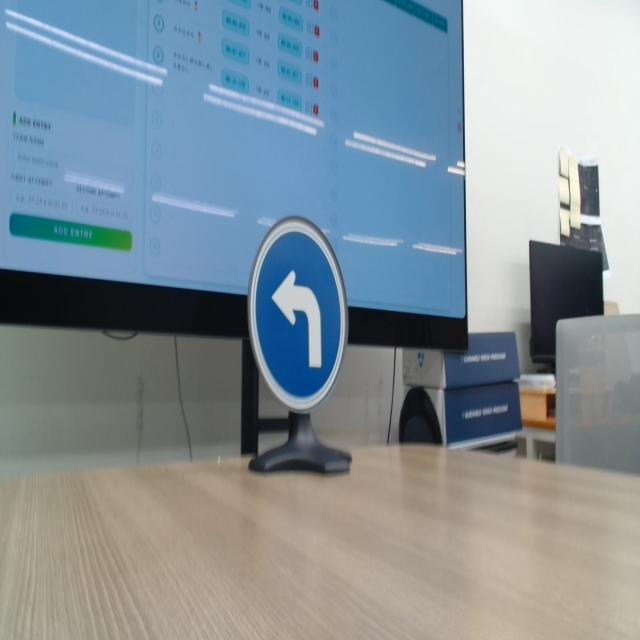left_direction: (244, 217, 349, 416)
